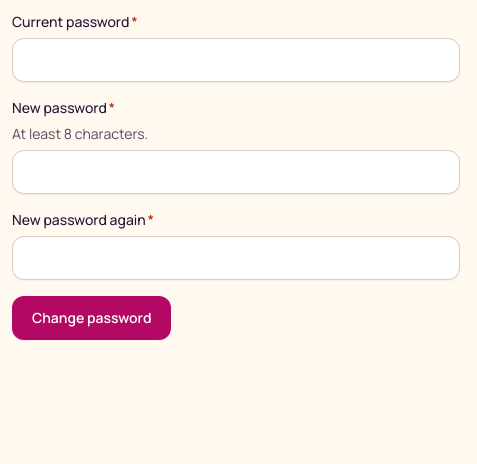
Test: ChangePassword › sends the current password with the new one, and says what else happened
The width and height of the screenshot is (477, 464).
Type "old-password" into the password field labelled "Current password*".
click(236, 60); type("old-password")  # box [12,38,460,82]
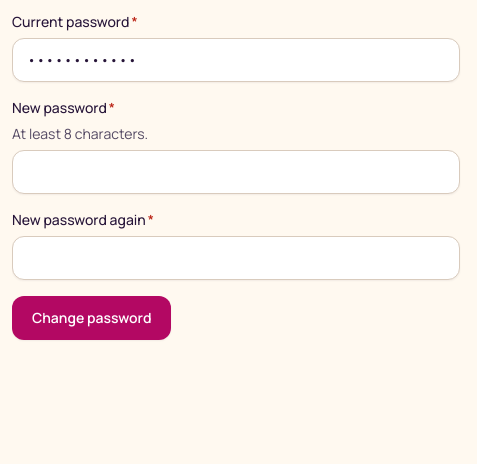
Type "new-password-long" into the password field labelled "New password*".
click(236, 172); type("new-password-long")  # box [12,150,460,194]
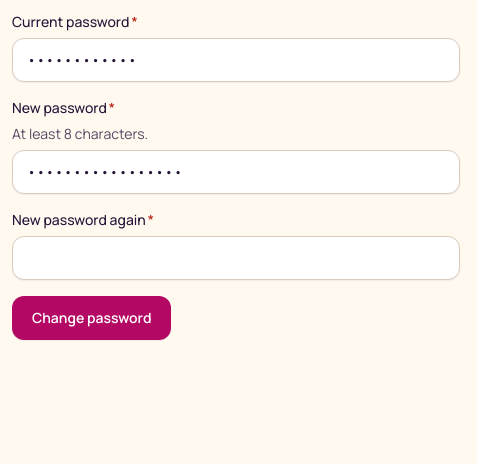
Type "new-password-long" into the password field labelled "New password again*".
click(236, 258); type("new-password-long")  # box [12,236,460,280]
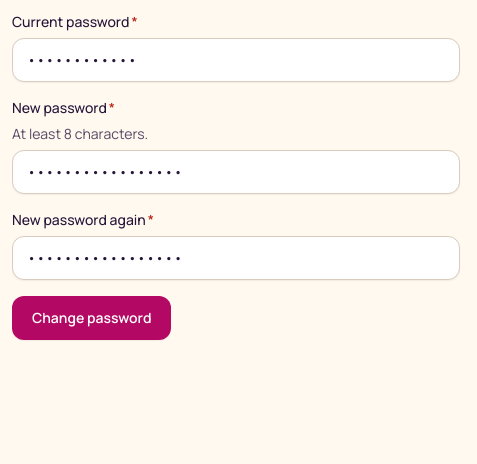
Click the button "Change password".
click(92, 318)  # box [12,296,171,340]
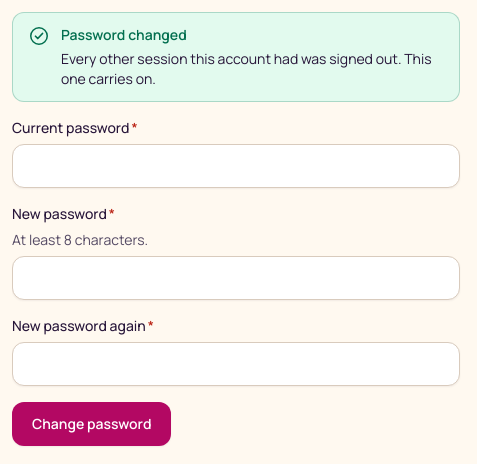
Expected: the text "Every other session this account had was signed out" is shown, [61,49,432,88]
Expected: the password field labelled "Current password*" is empty, [12,144,460,188]
Expected: the password field labelled "New password*" is empty, [12,256,460,300]
